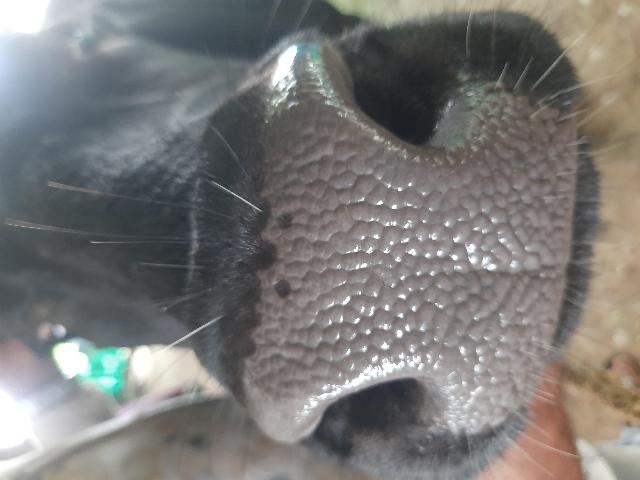Muzzle: (271, 131, 575, 387)
